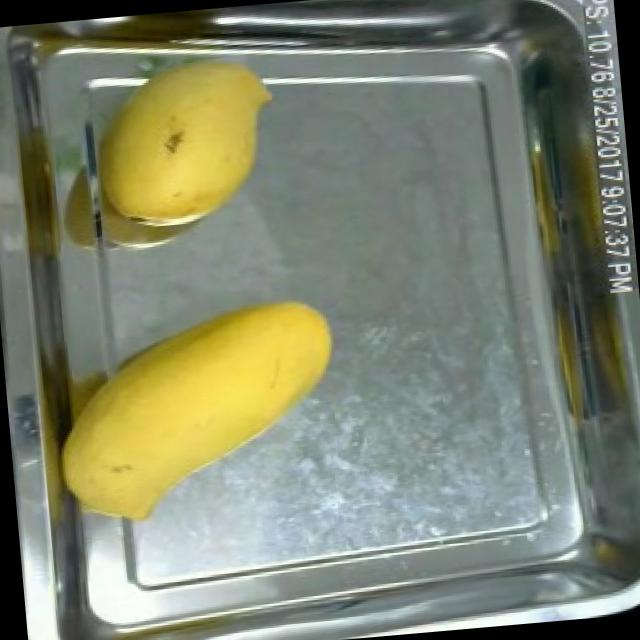fruit: (36, 282, 357, 536), (72, 39, 282, 246)
